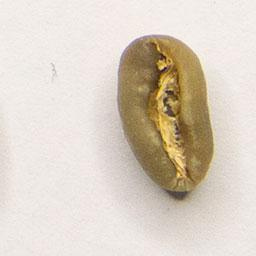longberry: (115, 32, 217, 197)
